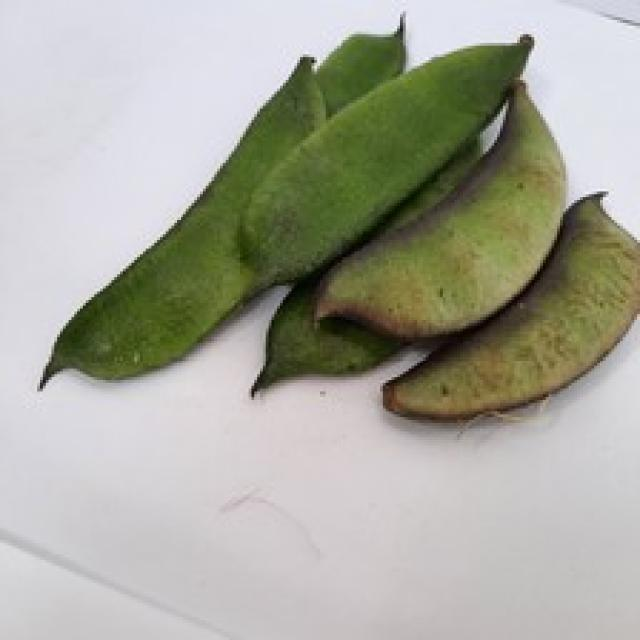Bean: (34, 51, 326, 388), (234, 28, 532, 286), (380, 189, 637, 420)
